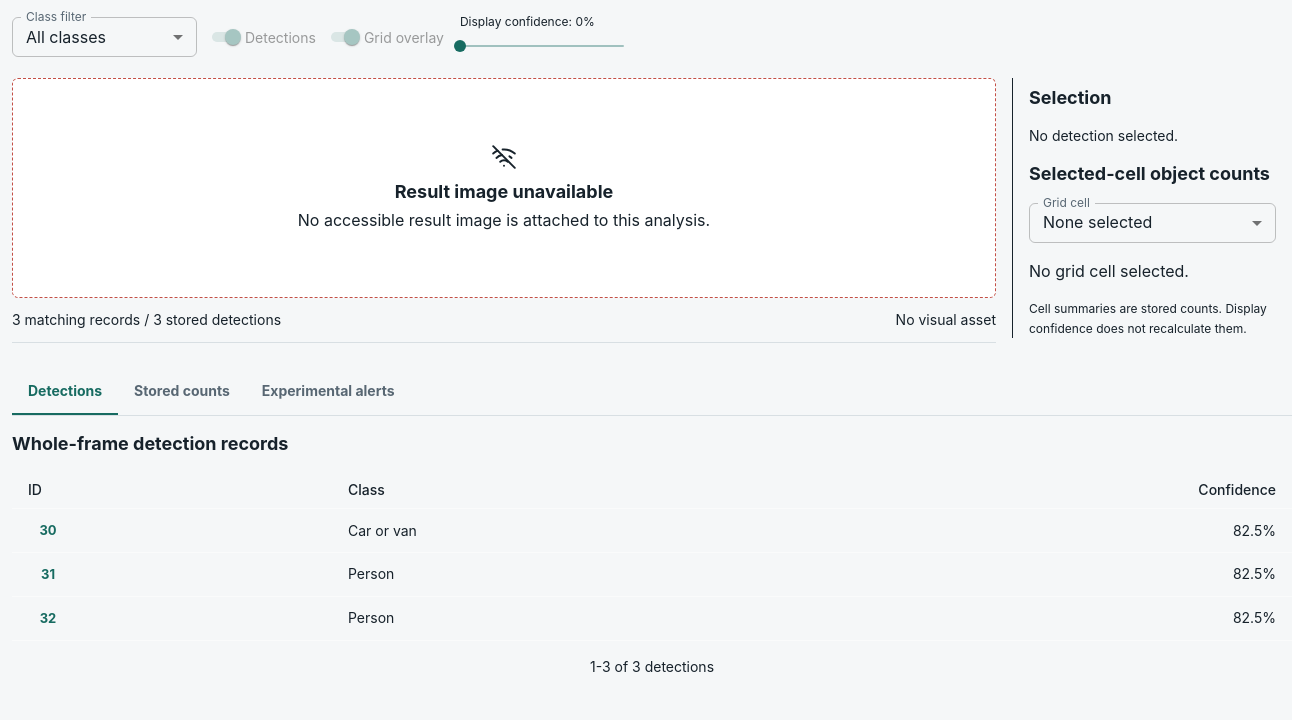
Test: result class filters › works without a result image
Select "Person" in the dropdown labelled "Class filter" at (104, 37), box top-left (12, 17), bottom-right (197, 57)
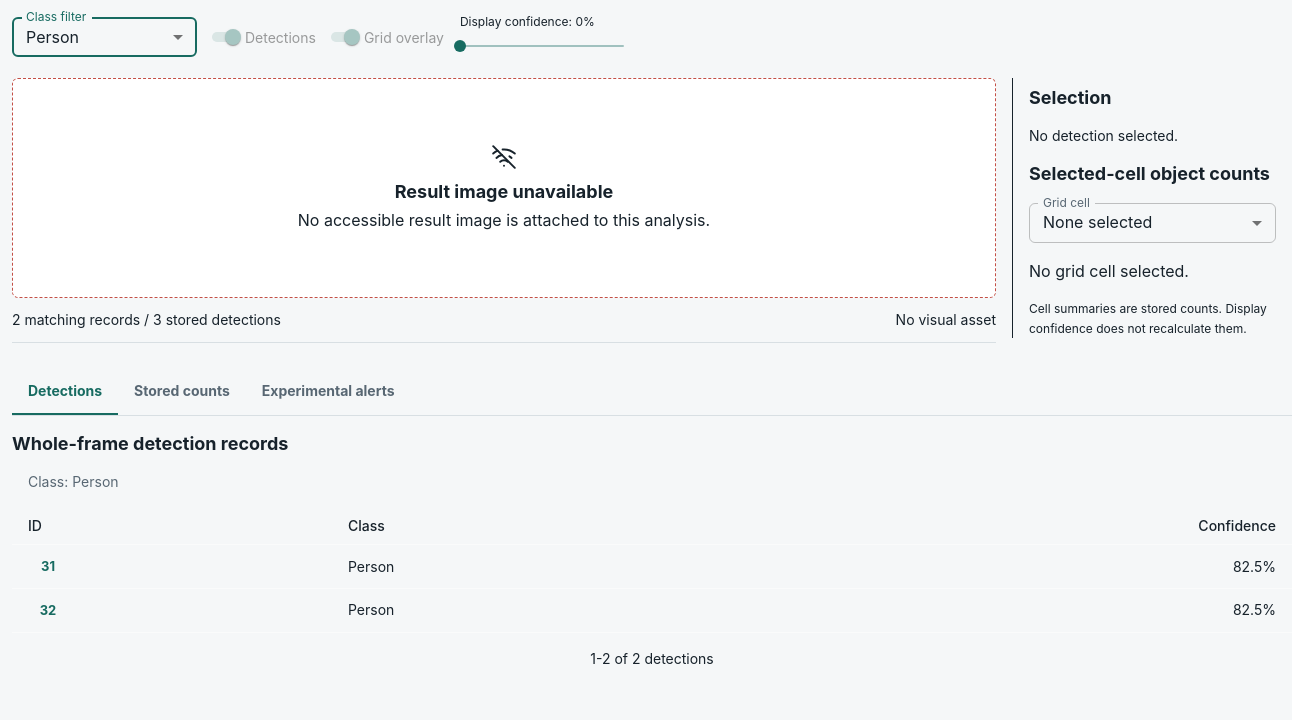
Expected: the heading "Result image unavailable" is shown, top-left (395, 181), bottom-right (613, 202)
Result: the text "1-2 of 2 detections" is shown at top-left (590, 649), bottom-right (714, 669)
